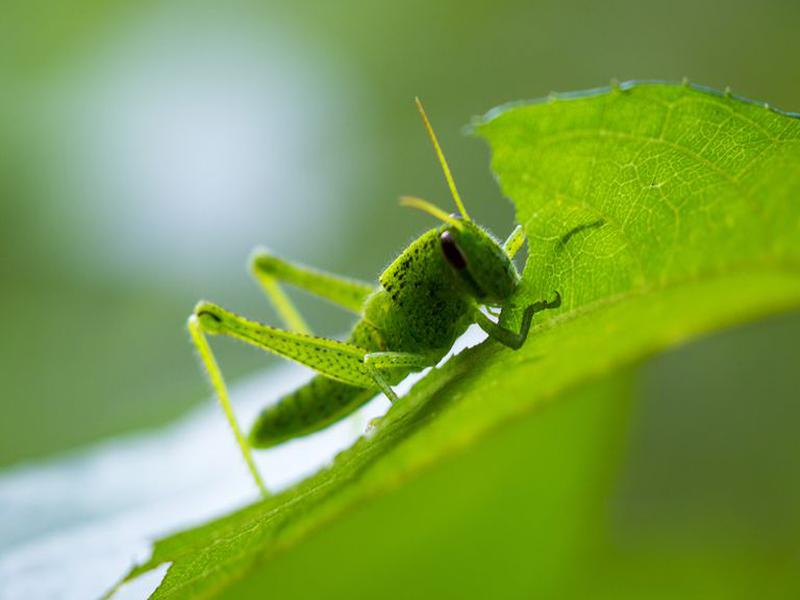Grasshopper: (164, 210, 543, 490)
